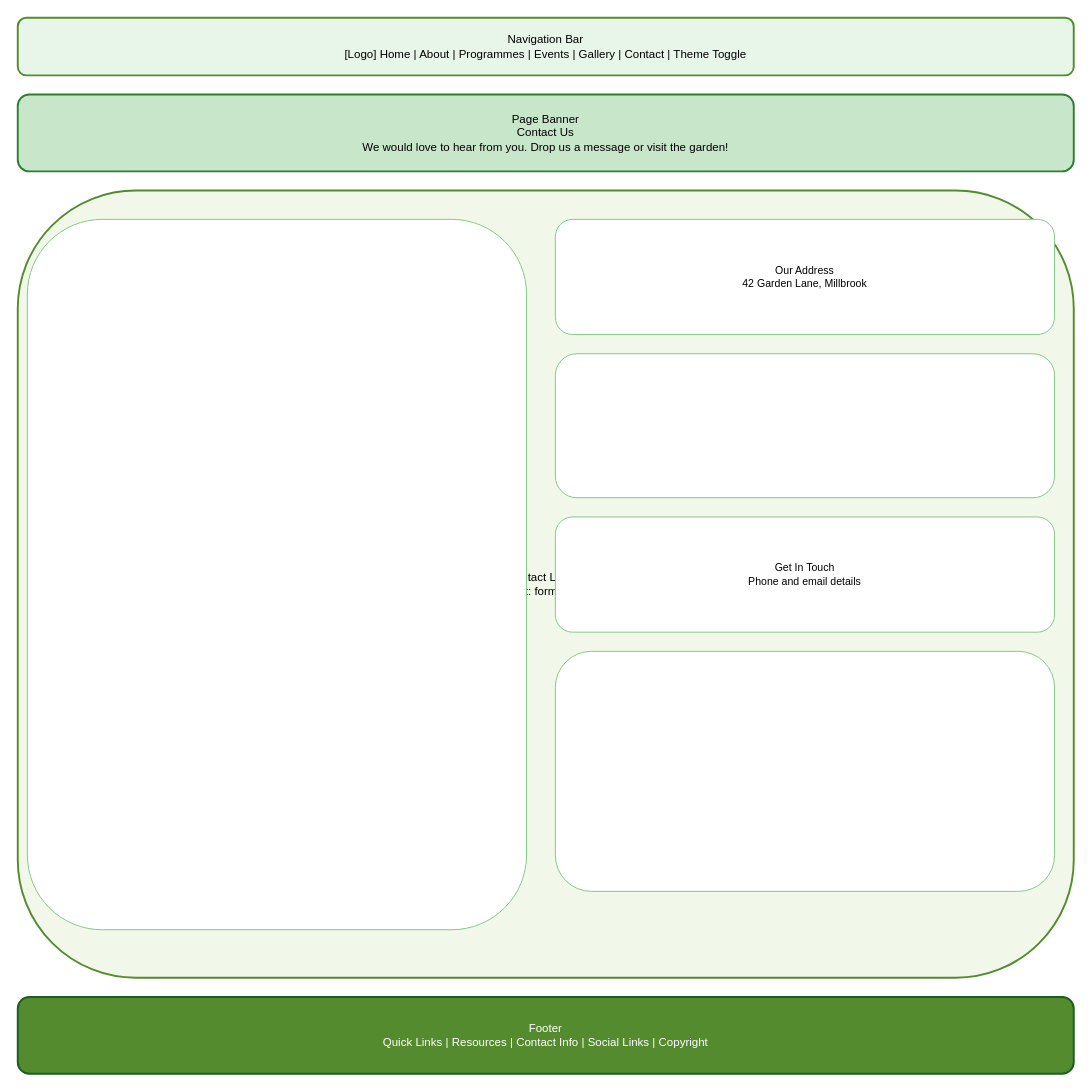
This 1091x1091 diagram has some shape labels left out. Here are the shapes that lost their labels. From the top down, the centre of each, then its label:
At (804,425): "Opening Hours Mon-Fri, Saturday, Sunday, Bank Holidays".
At (276,574): "Contact Form Name Email Subject Enquiry Type Message Send Button".
At (804,770): "Embedded Map OpenStreetMap iframe".
